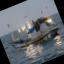fishing boat: (0, 3, 63, 56)
